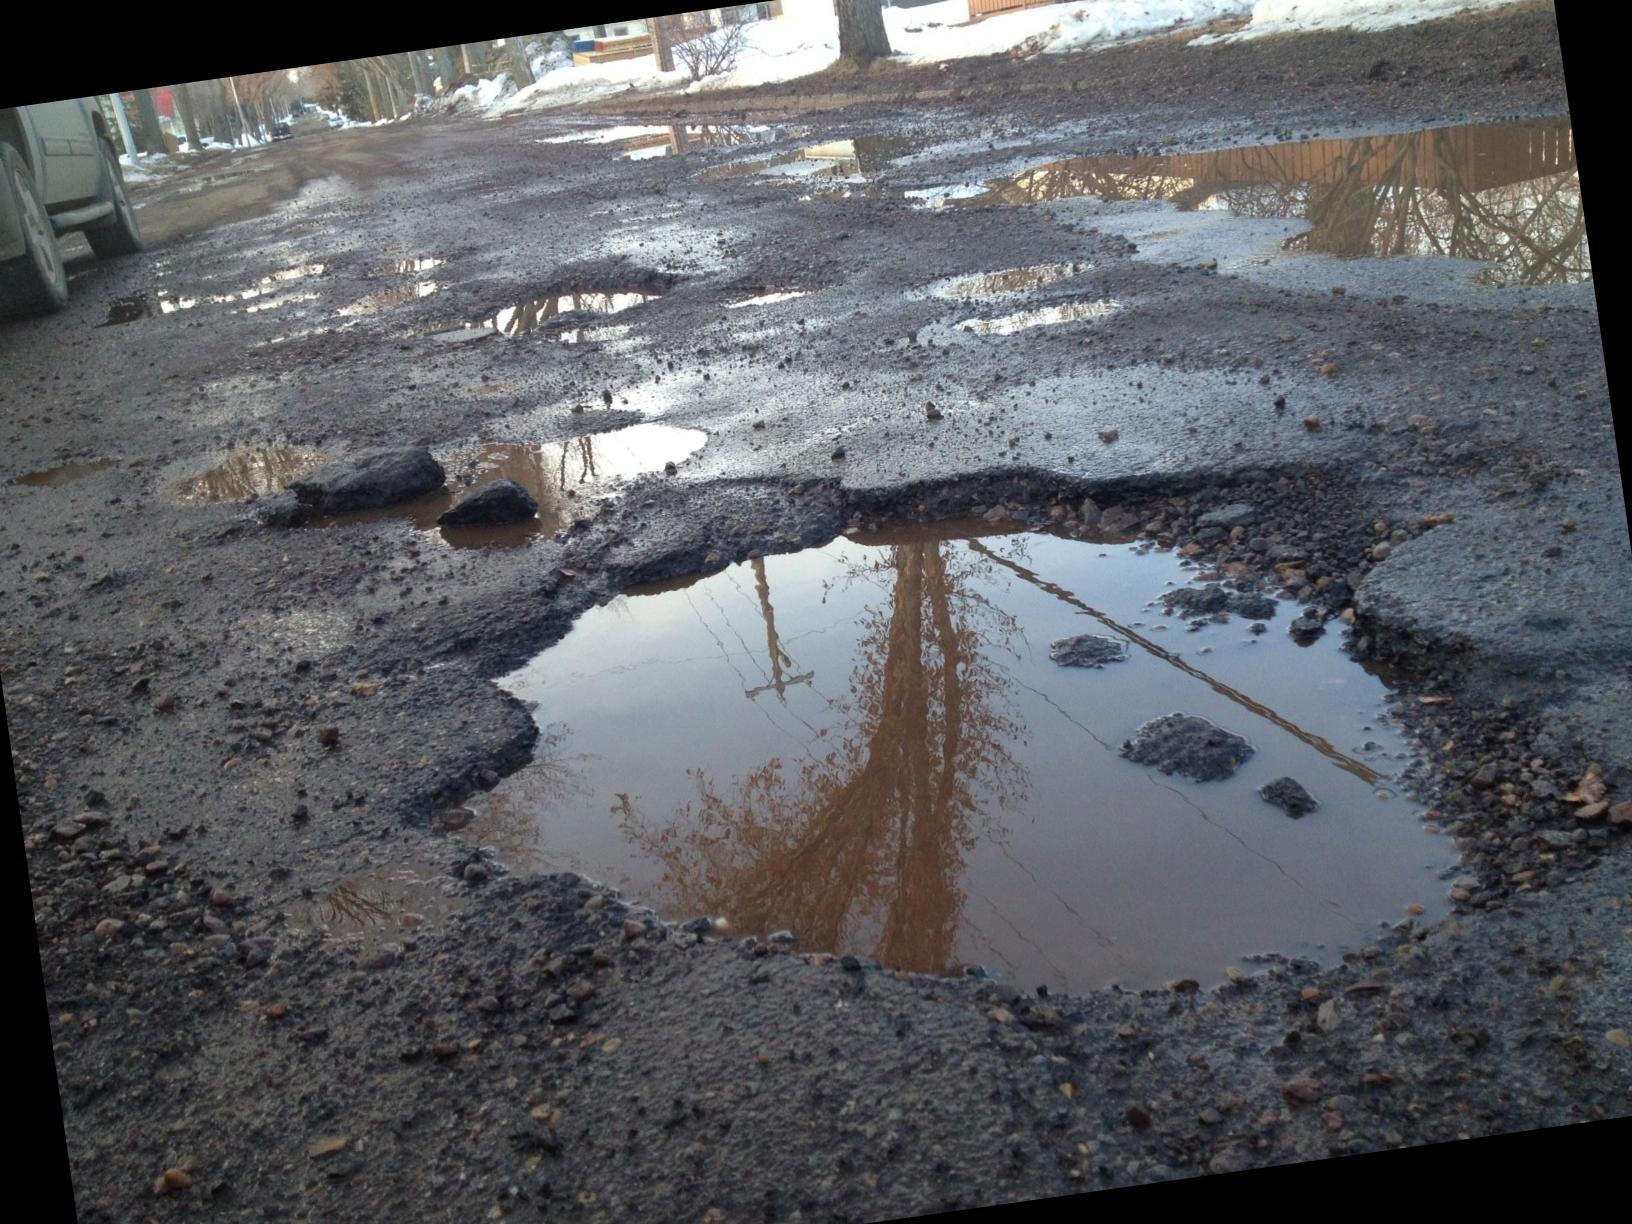pothole: (406, 435, 1487, 1092), (941, 91, 1583, 392), (162, 377, 731, 582), (671, 107, 984, 228), (421, 240, 693, 377), (924, 283, 1132, 351), (916, 235, 1096, 312), (707, 251, 847, 327), (0, 438, 129, 512)
